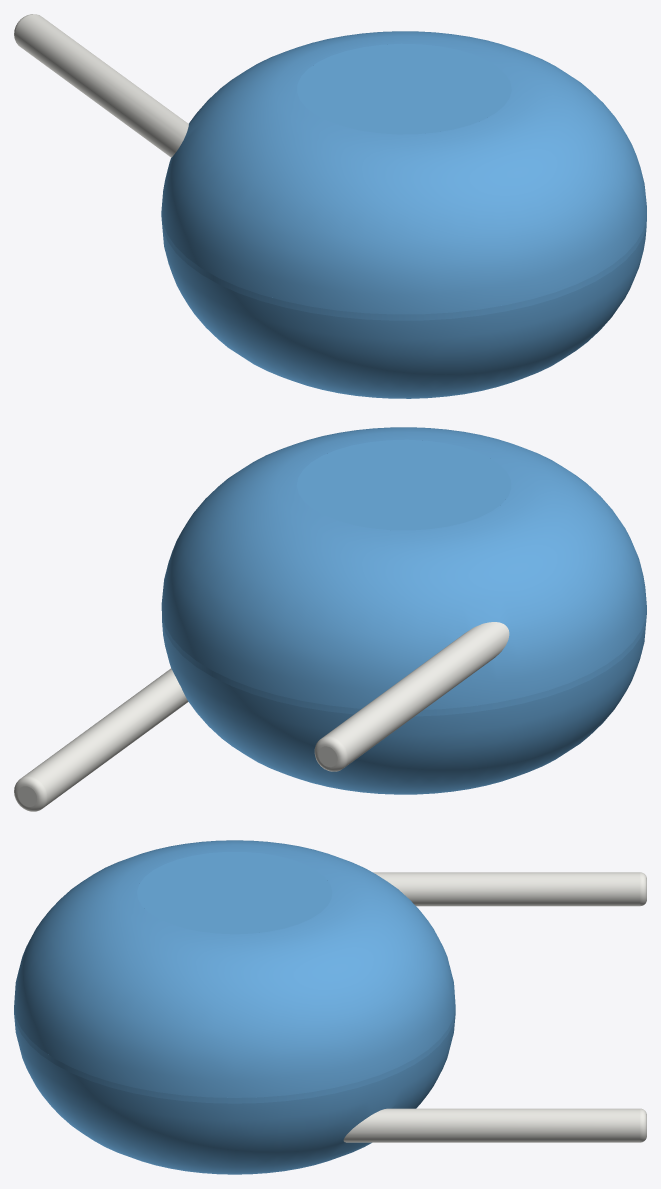
File: RV_Disc_D7mm_W4mm_P5mm.glb
3 views of the same model, one above another, from view 1: azimuth 30°, elevation 25°; view 2: azimuth 150°, elevation 25°; view 3: azimuth 270°, elevation 25° (orthographic). The views are drawn at different scales.
Visible parts, largest first — view 1: Shape_IndexedFaceSet.001, Shape_IndexedFaceSet.002, Shape_IndexedFaceSet.003, Shape_IndexedFaceSet.004, Shape_IndexedFaceSet; view 2: Shape_IndexedFaceSet.001, Shape_IndexedFaceSet.002, Shape_IndexedFaceSet.003, Shape_IndexedFaceSet.004, Shape_IndexedFaceSet.006, Shape_IndexedFaceSet, Shape_IndexedFaceSet.008, Shape_IndexedFaceSet.007; view 3: Shape_IndexedFaceSet.001, Shape_IndexedFaceSet.002, Shape_IndexedFaceSet.003, Shape_IndexedFaceSet.006, Shape_IndexedFaceSet.004, Shape_IndexedFaceSet.
Boxes of the visible parts, x1,y1,x2,y2 form: Shape_IndexedFaceSet.001: [161, 31, 646, 314]; Shape_IndexedFaceSet.002: [161, 220, 646, 398]; Shape_IndexedFaceSet.003: [297, 43, 511, 134]; Shape_IndexedFaceSet.004: [15, 14, 188, 157]; Shape_IndexedFaceSet: [161, 211, 646, 320]; Shape_IndexedFaceSet.001: [161, 427, 646, 709]; Shape_IndexedFaceSet.002: [162, 618, 646, 794]; Shape_IndexedFaceSet.003: [296, 439, 511, 530]; Shape_IndexedFaceSet.004: [322, 622, 509, 767]; Shape_IndexedFaceSet.006: [22, 668, 188, 807]; Shape_IndexedFaceSet: [161, 605, 646, 716]; Shape_IndexedFaceSet.008: [14, 776, 47, 811]; Shape_IndexedFaceSet.007: [314, 736, 347, 771]; Shape_IndexedFaceSet.001: [14, 840, 455, 1097]; Shape_IndexedFaceSet.002: [14, 1014, 455, 1174]; Shape_IndexedFaceSet.003: [137, 852, 332, 934]; Shape_IndexedFaceSet.006: [343, 1108, 640, 1142]; Shape_IndexedFaceSet.004: [373, 872, 640, 906]; Shape_IndexedFaceSet: [14, 1008, 455, 1103].
Size of the model in its own units: 2.75 by 1.57 by 3.95.
